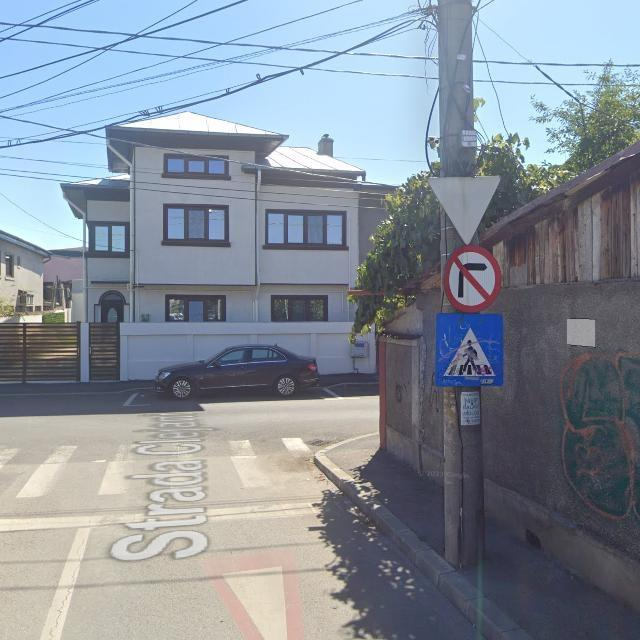info_crosswalk: (435, 311, 505, 388)
prio_give_way: (201, 544, 303, 640), (429, 175, 502, 245)
